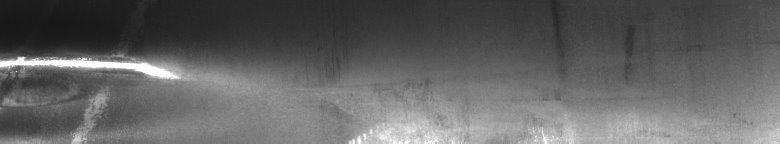ke: (4, 44, 197, 136)
